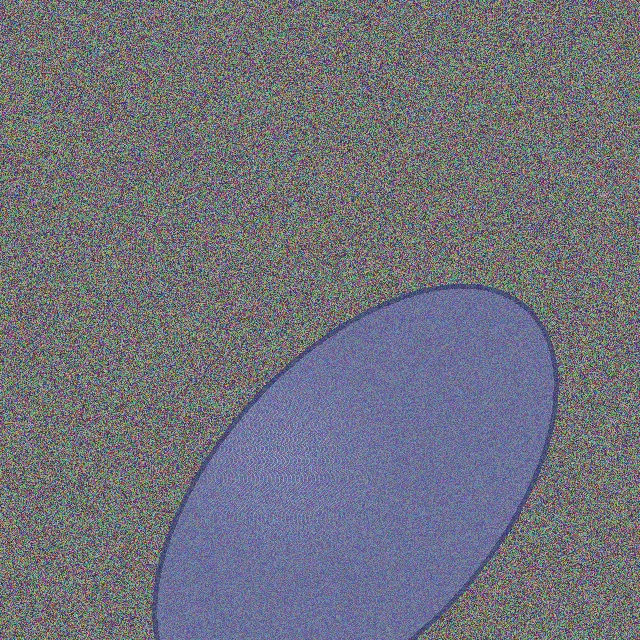lens: (154, 286, 556, 640)
